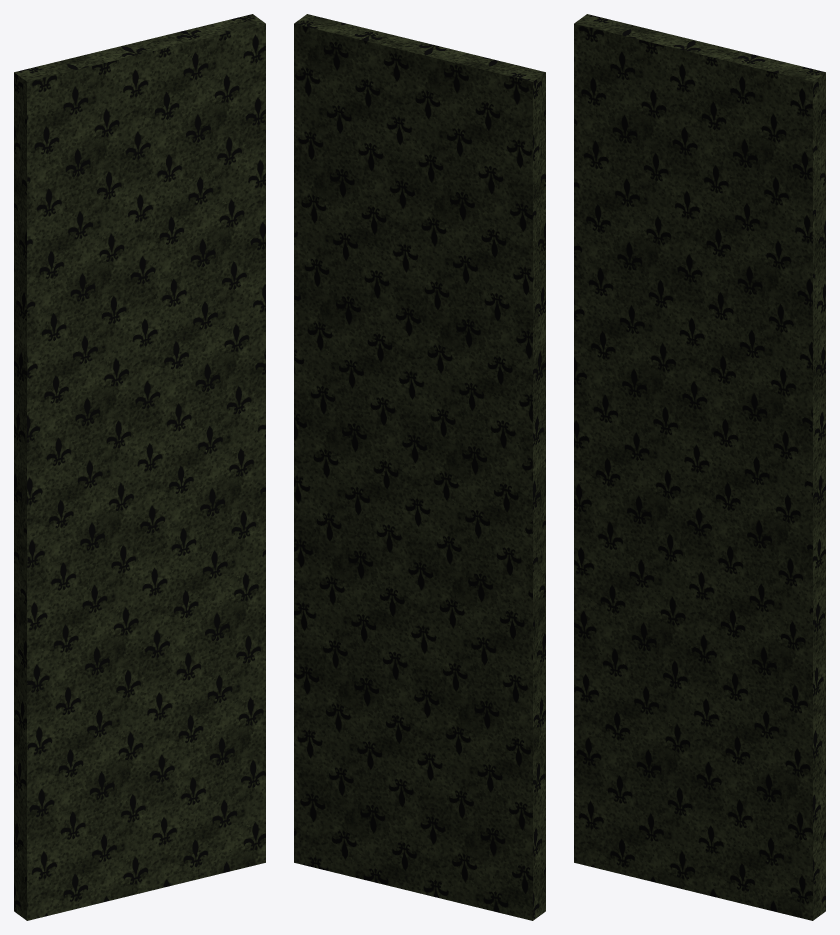
Rendered from paredFinal.fbx.
3 renders of one model, left to right at view 1: azimuth 30°, elevation 25°; view 2: azimuth 150°, elevation 25°; view 3: azimuth 330°, elevation 25°, orthographic.
Visible parts, largest first — view 1: pared; view 2: pared; view 3: pared.
Boxes of the visible parts, <box> form: pared: <box>14,14,265,920</box>; pared: <box>294,14,545,920</box>; pared: <box>574,14,825,920</box>.
Bounding box in the file's own units: 0.9914 × 3.33 × 0.0945.
Materials: 1 (1 with a texture image).
